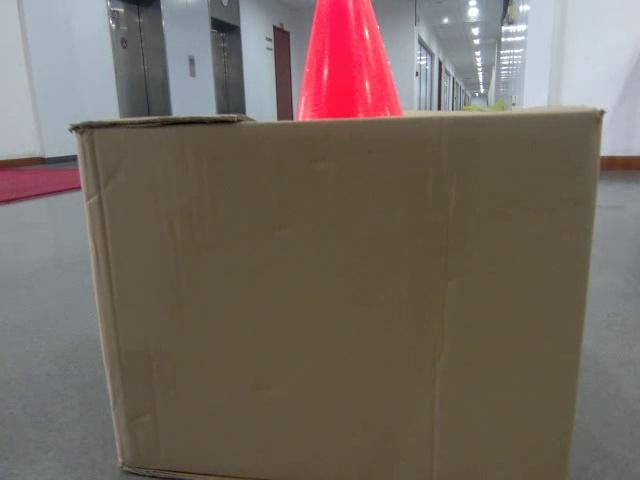orange_barrel: (292, 0, 408, 122)
